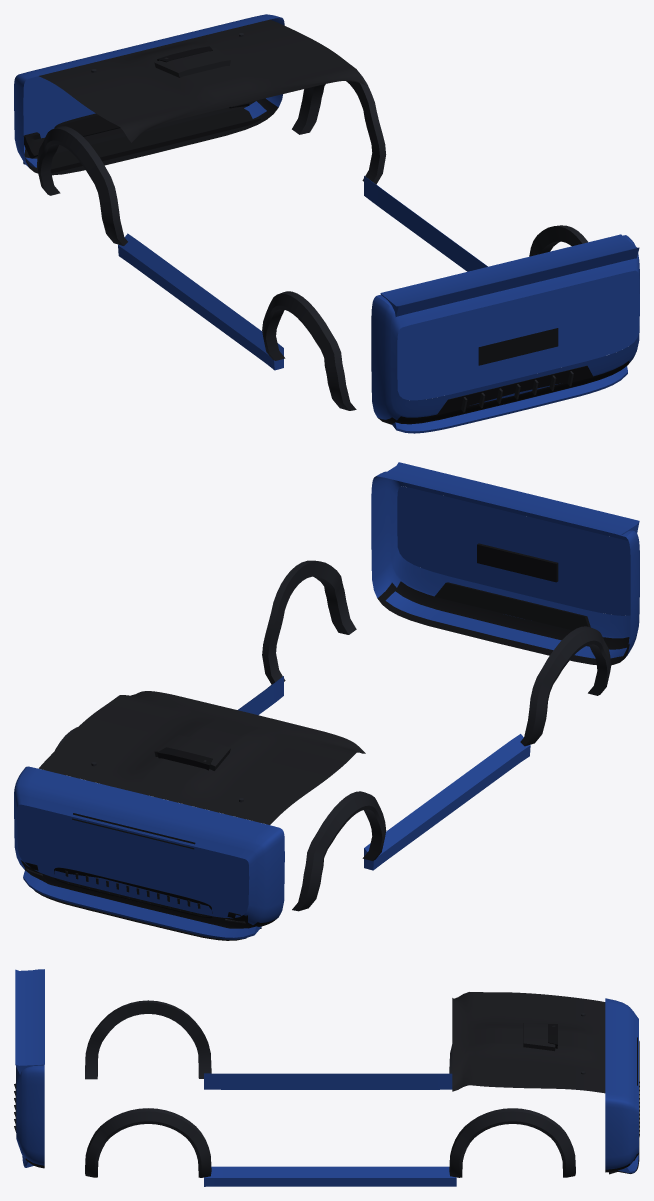
File: kit_drift.glb
The picture shows the model from 3 angles, top to bottom: view 1: azimuth 30°, elevation 25°; view 2: azimuth 150°, elevation 25°; view 3: azimuth 270°, elevation 25°; orthographic projection. The views are drawn at different scales.
Parts seen in each view (by area): view 1: bumper_front__drift, hood__drift, skirts__drift, bumper_rear__drift, spoiler__drift; view 2: bumper_front__drift, hood__drift, bumper_rear__drift, skirts__drift, spoiler__drift; view 3: skirts__drift, hood__drift, bumper_front__drift, spoiler__drift, bumper_rear__drift.
Part boxes in pixels (x1,y1,x2,y2): bumper_front__drift: (14, 14, 639, 400); hood__drift: (39, 19, 365, 142); skirts__drift: (37, 70, 587, 410); bumper_rear__drift: (371, 235, 639, 433); spoiler__drift: (380, 234, 639, 316); bumper_front__drift: (14, 486, 630, 940); hood__drift: (39, 691, 365, 824); bumper_rear__drift: (371, 471, 639, 665); skirts__drift: (55, 560, 611, 911); spoiler__drift: (381, 462, 639, 534); skirts__drift: (85, 1000, 575, 1186); hood__drift: (452, 992, 605, 1093); bumper_front__drift: (605, 998, 639, 1174); spoiler__drift: (15, 969, 44, 1074); bumper_rear__drift: (14, 969, 44, 1168).
Size of what is drawn, in the model's own units: 1.97 by 0.9601 by 4.55.
